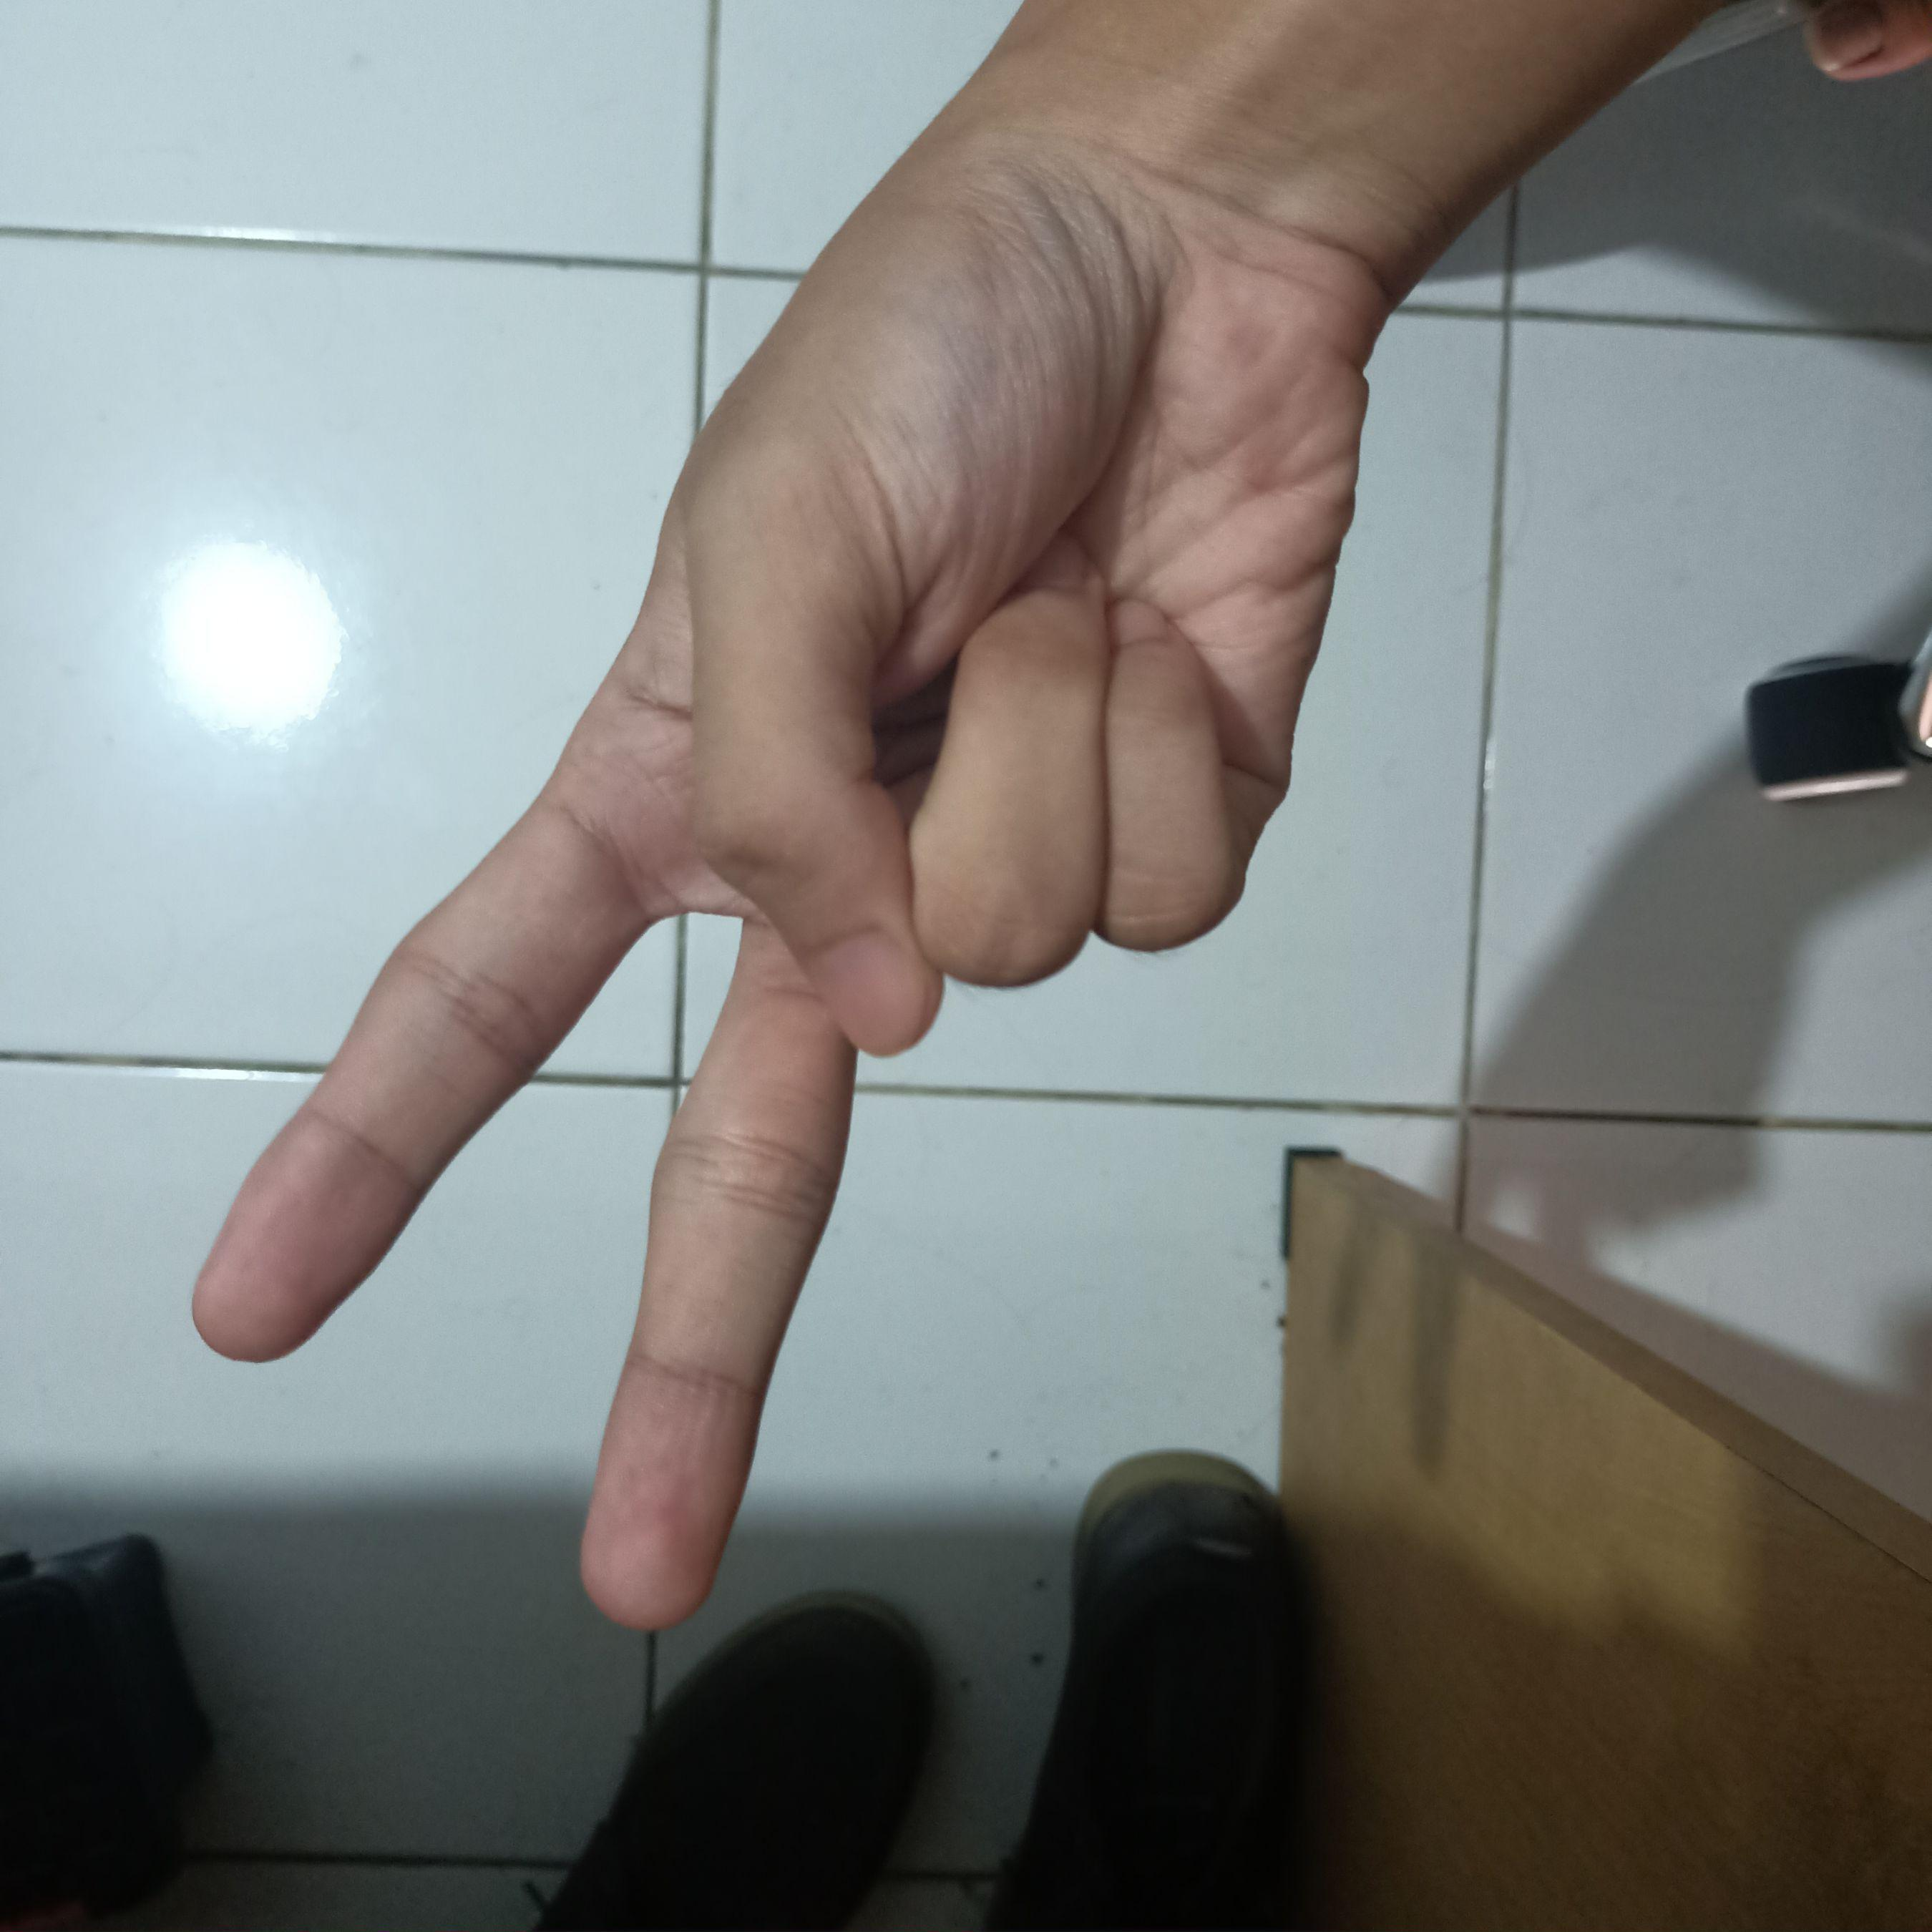scissors: (142, 143, 1401, 1652)
